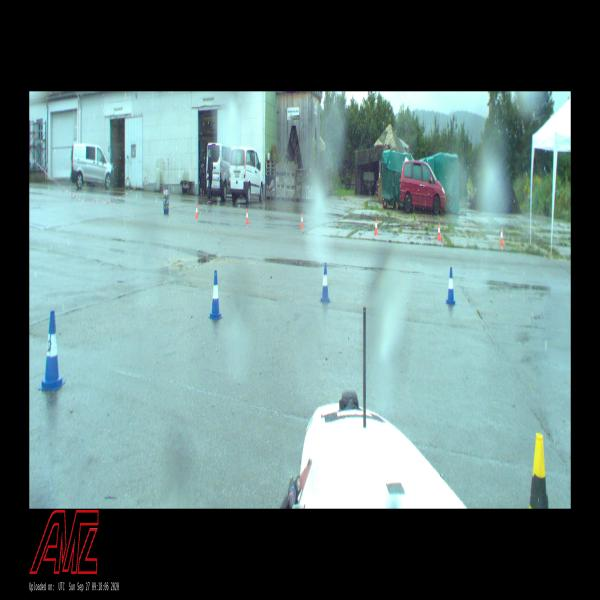blue_cone: (39, 311, 66, 391), (209, 270, 223, 320), (320, 262, 332, 303), (446, 266, 455, 304)
orange_cone: (499, 228, 504, 244), (194, 204, 199, 218), (374, 219, 378, 236), (438, 223, 442, 240), (300, 213, 304, 228), (245, 209, 249, 224)
yellow_cone: (530, 434, 548, 508)
